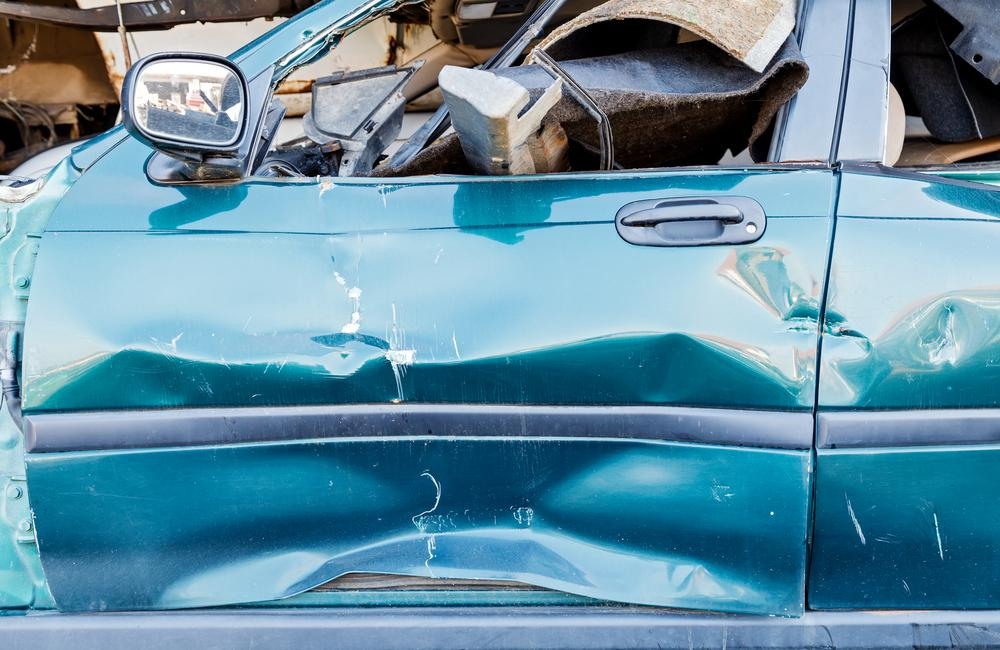dent: (29, 335, 802, 613), (821, 293, 985, 410), (720, 247, 818, 333)
scratch: (314, 256, 421, 374)
